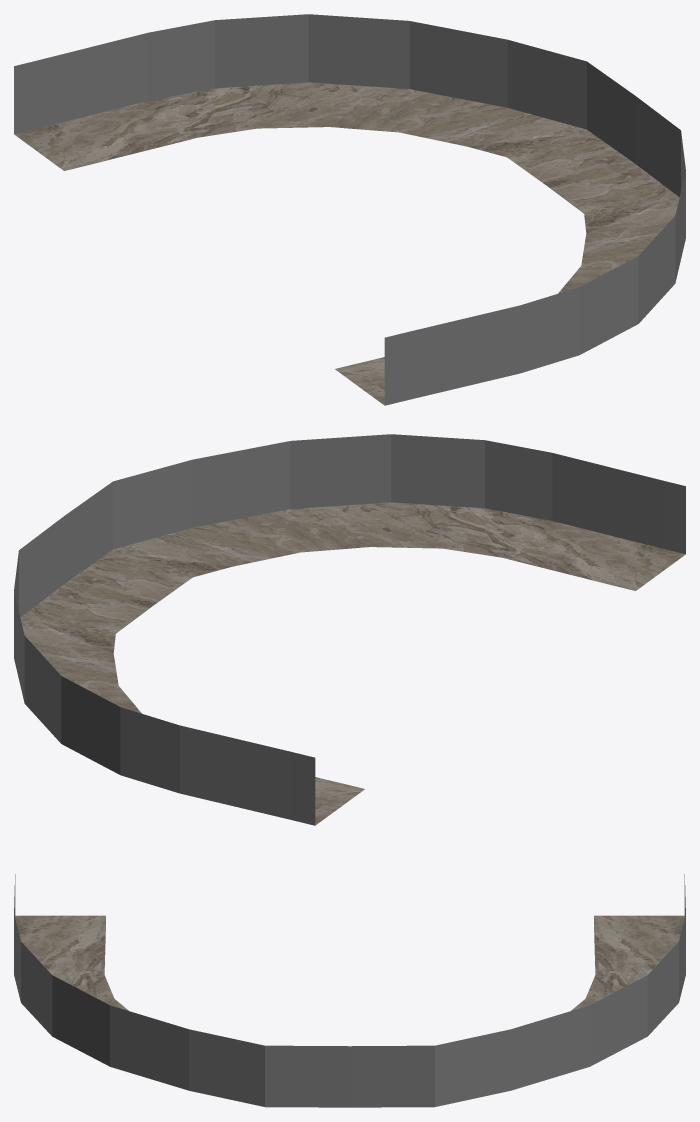
File: jjhkh.fbx
The picture shows the model from 3 angles, top to bottom: view 1: azimuth 30°, elevation 25°; view 2: azimuth 150°, elevation 25°; view 3: azimuth 270°, elevation 25°; orthographic projection. The views are drawn at different scales.
Visible parts, largest first — view 1: Object131, Object130; view 2: Object131, Object130; view 3: Object131, Object130.
Boxes of the visible parts, left/top/right/bottom form: Object131: left=14, top=14, right=685, bottom=405; Object130: left=14, top=82, right=679, bottom=405; Object131: left=14, top=434, right=685, bottom=825; Object130: left=20, top=502, right=685, bottom=825; Object131: left=14, top=874, right=685, bottom=1107; Object130: left=15, top=915, right=684, bottom=1010.
Bounding box in the file's own units: 22.28 × 3.33 × 32.98.
Materials: 2 (1 with a texture image).
